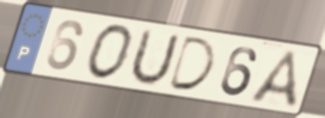6: (45, 19, 87, 73), (219, 45, 258, 98)
A: (246, 48, 300, 111)
D: (165, 34, 220, 94)
O: (84, 22, 137, 82)
U: (125, 27, 183, 89)
